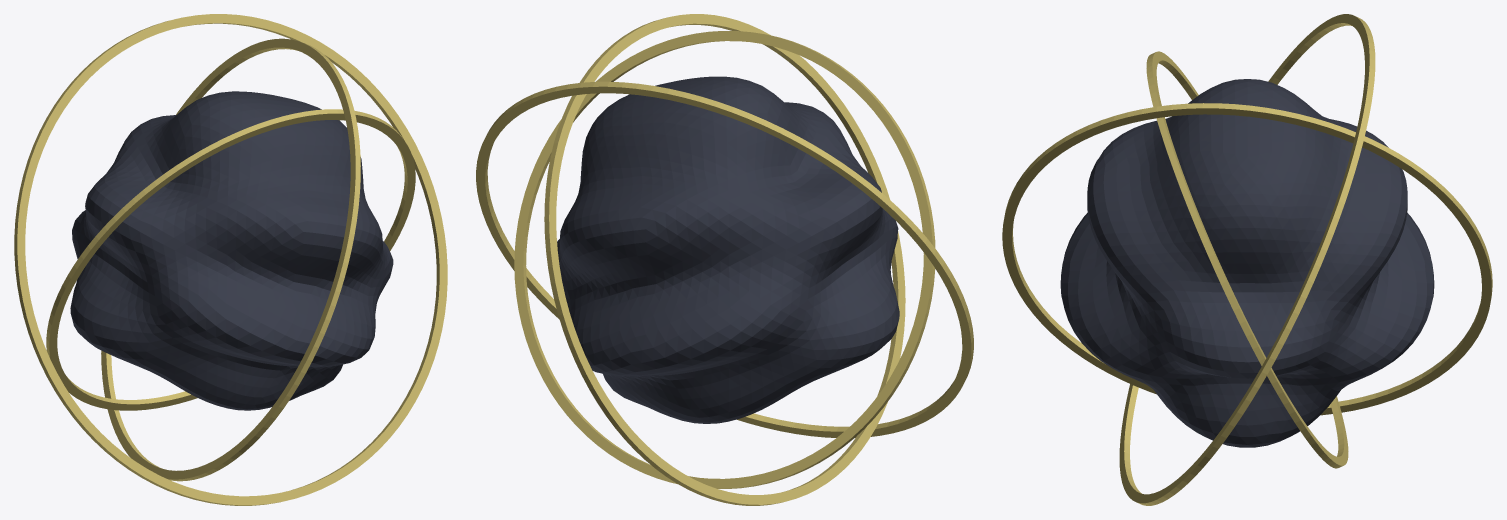
File: gpu-artifact.glb
3 views of the same model, side by side, from view 1: azimuth 30°, elevation 25°; view 2: azimuth 150°, elevation 25°; view 3: azimuth 270°, elevation 25° (orthographic). The views are drawn at different scales.
Parts seen in each view (by area): view 1: zoth-studio-v2_obsidian_core, zoth-studio-v2_orbital_ring_2, zoth-studio-v2_orbital_ring_1, zoth-studio-v2_orbital_ring_0; view 2: zoth-studio-v2_obsidian_core, zoth-studio-v2_orbital_ring_0, zoth-studio-v2_orbital_ring_1, zoth-studio-v2_orbital_ring_2; view 3: zoth-studio-v2_obsidian_core, zoth-studio-v2_orbital_ring_1, zoth-studio-v2_orbital_ring_2, zoth-studio-v2_orbital_ring_0.
Part boxes in pixels (x1=…): zoth-studio-v2_obsidian_core: x1=70, y1=91, x2=393, y2=410; zoth-studio-v2_orbital_ring_2: x1=14, y1=14, x2=447, y2=505; zoth-studio-v2_orbital_ring_1: x1=101, y1=38, x2=360, y2=481; zoth-studio-v2_orbital_ring_0: x1=46, y1=109, x2=415, y2=410; zoth-studio-v2_obsidian_core: x1=557, y1=76, x2=899, y2=423; zoth-studio-v2_orbital_ring_0: x1=514, y1=31, x2=935, y2=488; zoth-studio-v2_orbital_ring_1: x1=544, y1=14, x2=905, y2=505; zoth-studio-v2_orbital_ring_2: x1=476, y1=81, x2=973, y2=437; zoth-studio-v2_obsidian_core: x1=1060, y1=79, x2=1434, y2=447; zoth-studio-v2_orbital_ring_1: x1=1002, y1=103, x2=1492, y2=415; zoth-studio-v2_orbital_ring_2: x1=1119, y1=14, x2=1375, y2=505; zoth-studio-v2_orbital_ring_0: x1=1146, y1=51, x2=1348, y2=468.
Bounding box in the file's own units: 3.24 × 2.89 × 2.98.
